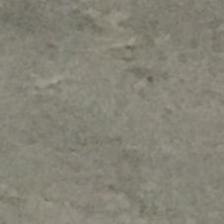Non_Crack: (8, 6, 224, 224)
